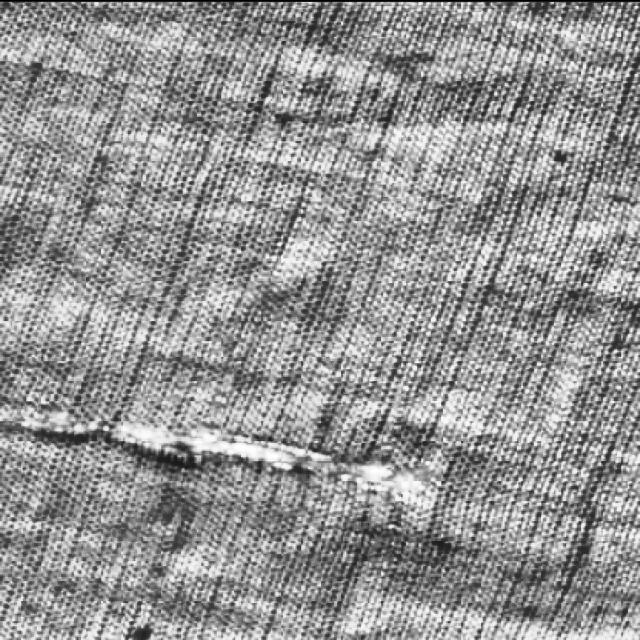thread_error: (0, 379, 434, 503)
